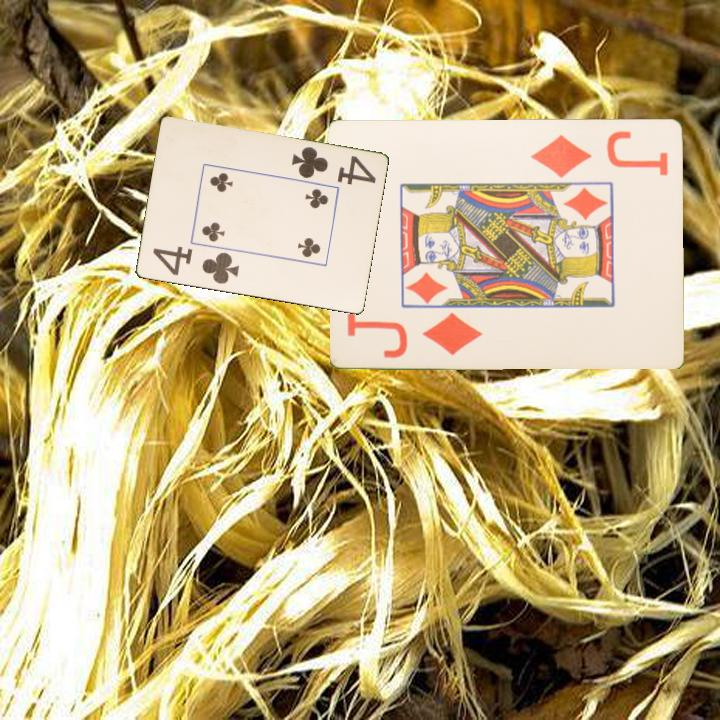4c: (287, 143, 378, 188), (149, 243, 241, 287)
Jd: (528, 127, 672, 180), (344, 308, 486, 361)
